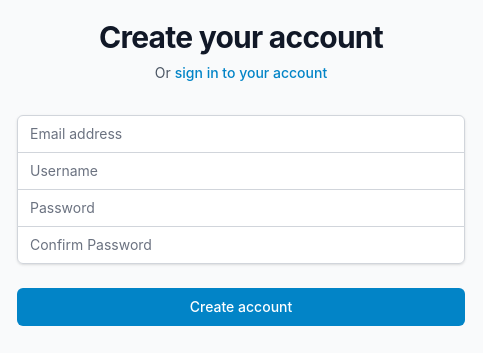
it: Register form › enforces password minimum length
In the field with placeholder "Email address": (241, 134) [17,114,465,152], type "alice@example.com"
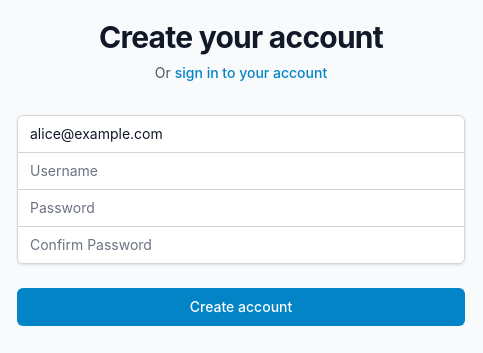
In the field with placeholder "Username": (241, 170) [17,152,465,190], type "alice"
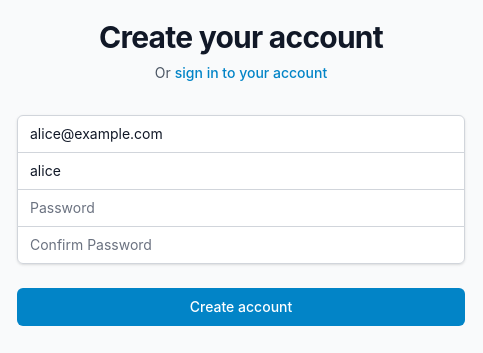
In the password field with placeholder "Password": (241, 208) [17,188,465,226], type "short"
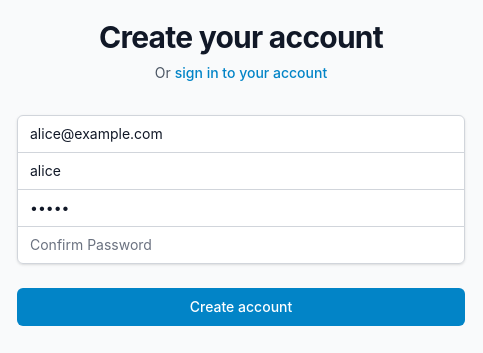
In the password field with placeholder "Confirm Password": (241, 244) [17,226,465,264], type "short"
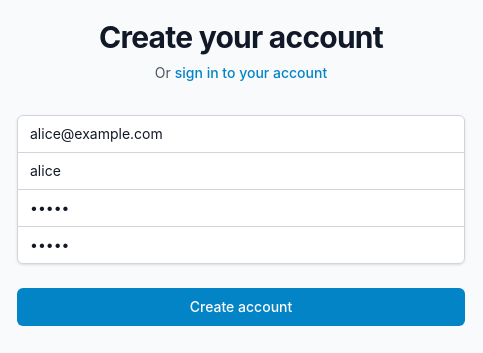
Click the button "Create account": (241, 306) [17,288,465,326]
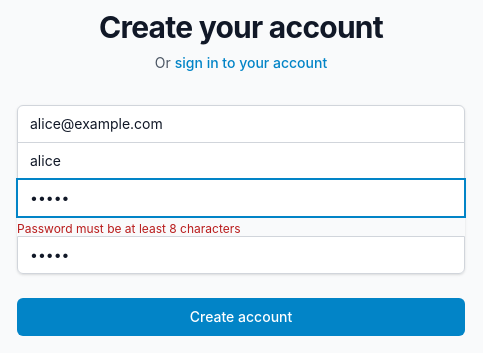
Result: the text "Password must be at least 8 characters" is shown at [17,220,241,236]
